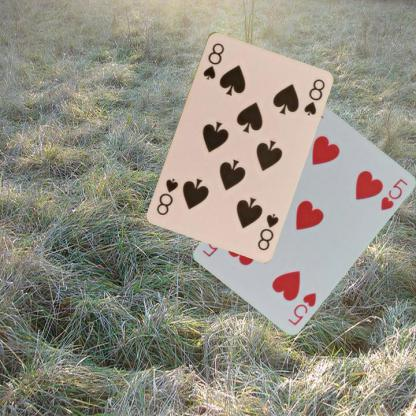5h: (285, 290, 318, 326)
8s: (254, 210, 280, 252), (200, 40, 225, 81)
